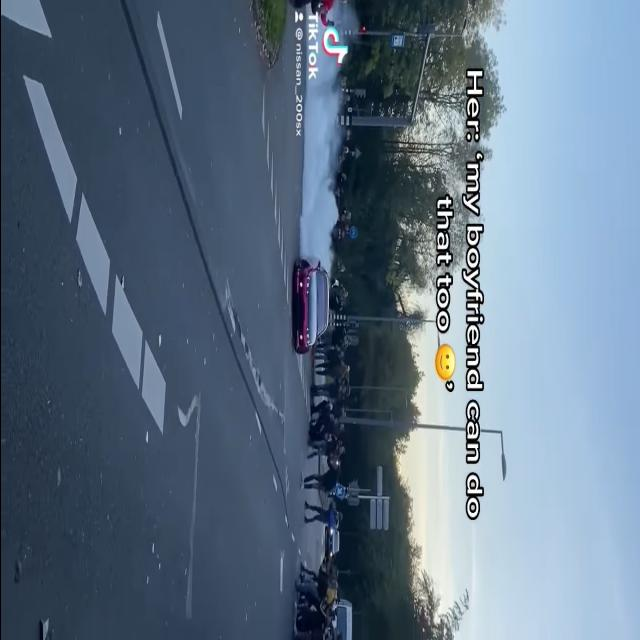car: (291, 260, 330, 354)
